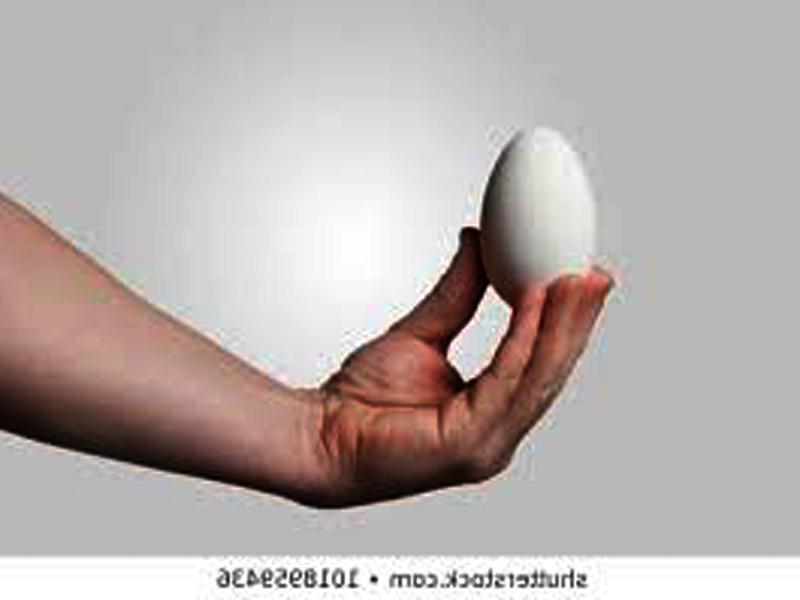Eggs: (479, 123, 600, 309)
